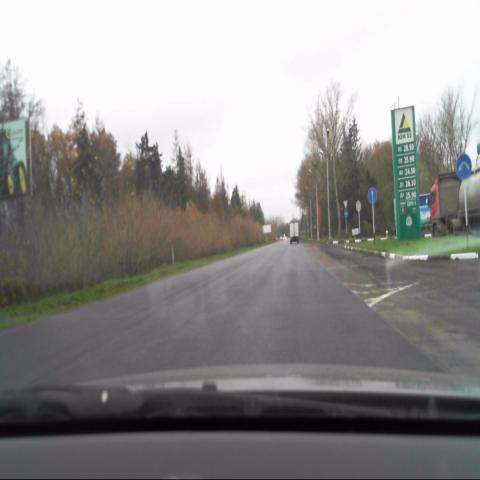4_2_3: (456, 153, 472, 181)
